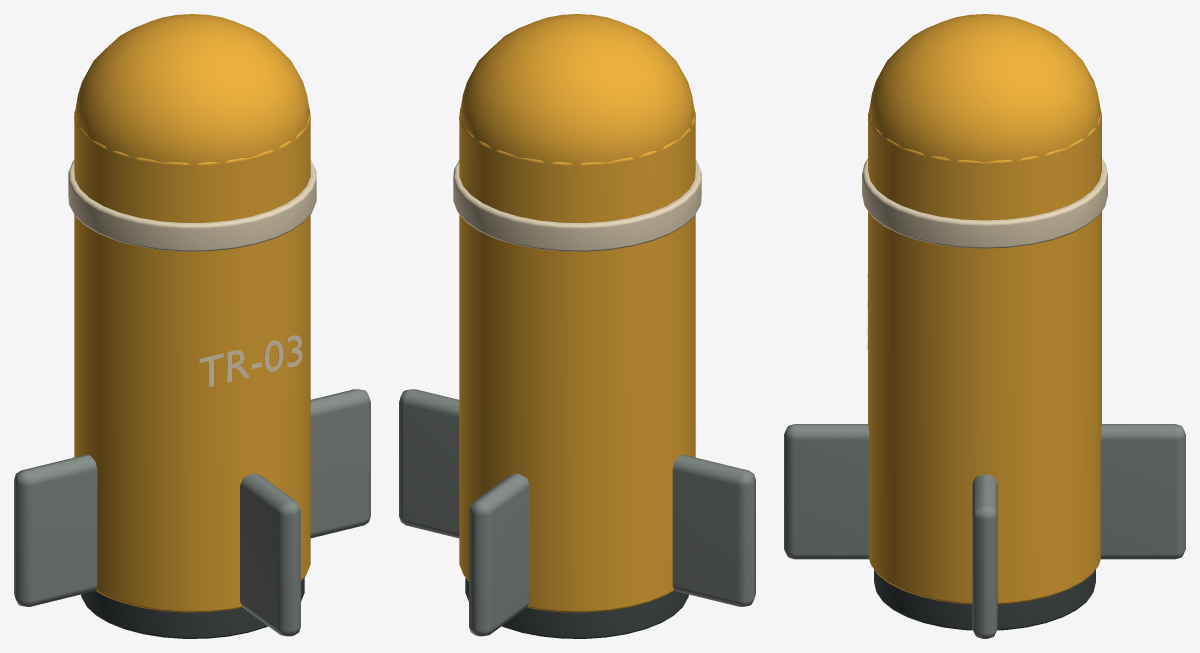
Rendered from rocket_device.glb.
3 renders of one model, left to right at view 1: azimuth 30°, elevation 25°; view 2: azimuth 150°, elevation 25°; view 3: azimuth 270°, elevation 25°, orthographic.
Parts seen in each view (by area): view 1: Painted stylized shell.001, Painted nose.001, Visual fin.006, Visual fin.007, Visual fin.004, Lighting collar.001, Rear guard.001, TR-03; view 2: Painted stylized shell.001, Painted nose.001, Visual fin.006, Visual fin.005, Visual fin.004, Lighting collar.001, Rear guard.001; view 3: Painted stylized shell.001, Painted nose.001, Visual fin.005, Visual fin.007, Lighting collar.001, Rear guard.001, Visual fin.004.
Part boxes in pixels (x1,y1,x2,y2): Painted stylized shell.001: [74, 108, 310, 612]; Painted nose.001: [74, 14, 310, 170]; Visual fin.006: [14, 454, 97, 606]; Visual fin.007: [240, 473, 300, 636]; Visual fin.004: [310, 389, 370, 538]; Lighting collar.001: [68, 160, 316, 251]; Rear guard.001: [81, 578, 304, 638]; TR-03: [199, 335, 302, 386]; Painted stylized shell.001: [459, 108, 695, 612]; Painted nose.001: [459, 14, 695, 170]; Visual fin.006: [672, 454, 755, 606]; Visual fin.005: [469, 473, 529, 636]; Visual fin.004: [399, 389, 459, 538]; Lighting collar.001: [453, 160, 701, 251]; Rear guard.001: [465, 578, 688, 638]; Painted stylized shell.001: [868, 111, 1101, 604]; Painted nose.001: [868, 14, 1101, 166]; Visual fin.005: [1100, 424, 1185, 559]; Visual fin.007: [784, 424, 869, 559]; Lighting collar.001: [862, 159, 1107, 248]; Rear guard.001: [874, 569, 1095, 630]; Visual fin.004: [972, 474, 997, 638].
Bounding box in the file's own units: 1.34 × 2.06 × 1.34.
